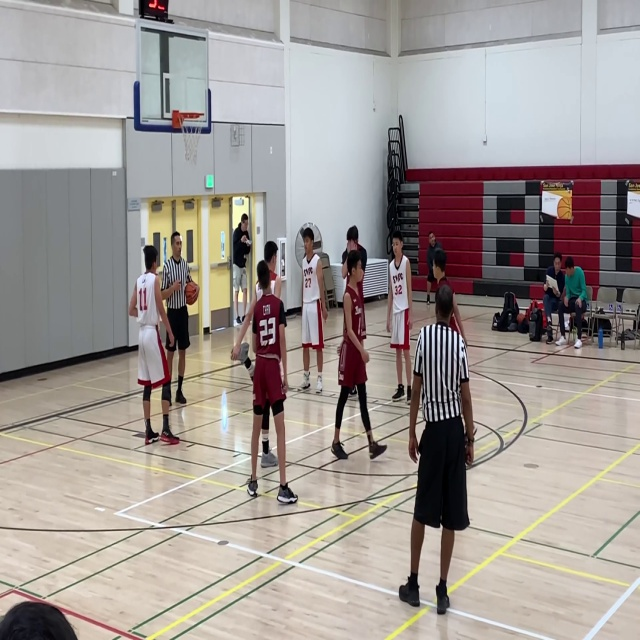Basketball: (184, 282, 199, 305)
